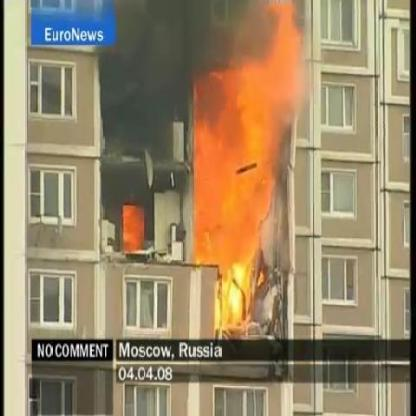fire: (195, 7, 300, 328), (125, 200, 147, 250)
